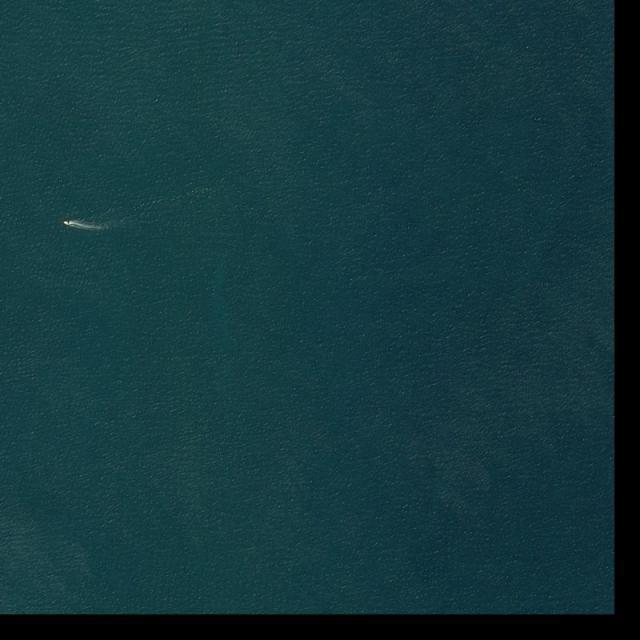ship: (63, 221, 71, 225)
